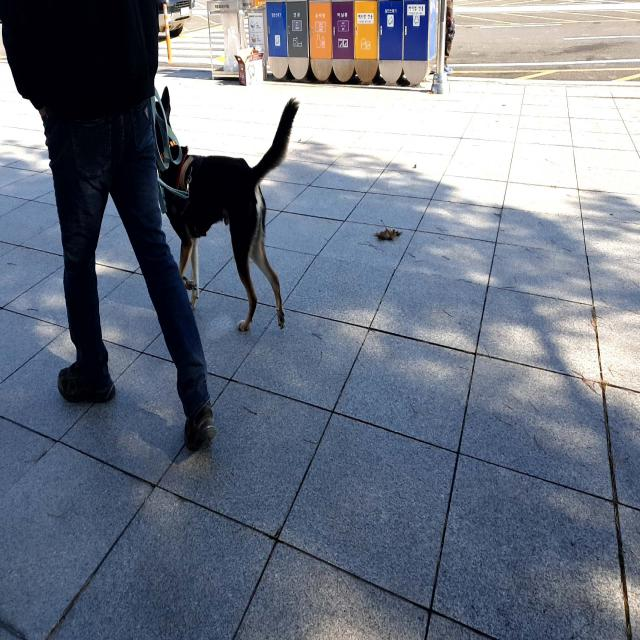Leashed_Dog: (122, 87, 300, 331)
